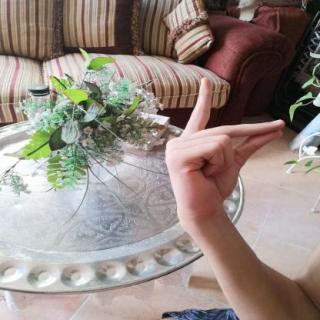TAA: (157, 71, 296, 224)
